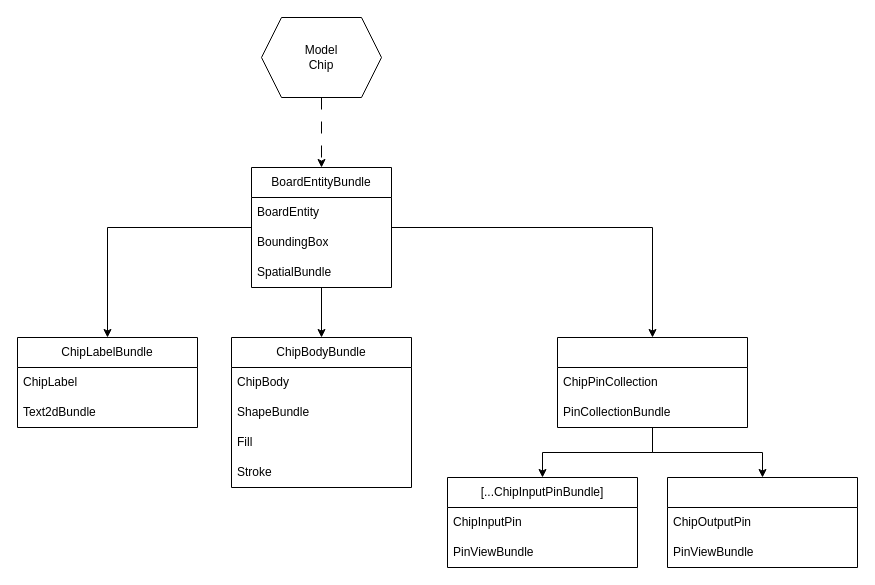
Image size: 875x585. Some labels were removed from this diagram. The shapes that lost their labels are listed below. From the top down, each one's box as (x1, y1, x2, y2) in pixels, then its label:
(556, 336, 748, 428): ChipPinCollectionBundle
(666, 476, 858, 568): [...ChipOutputPinBundle]
